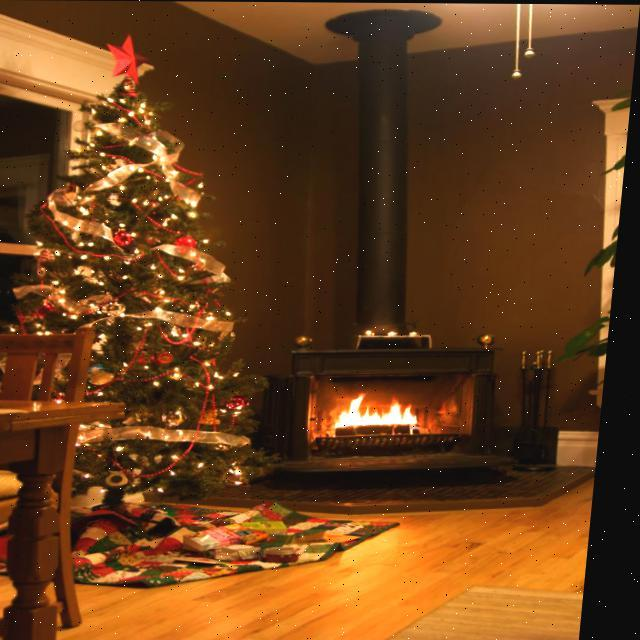Fire: (334, 391, 445, 432)
